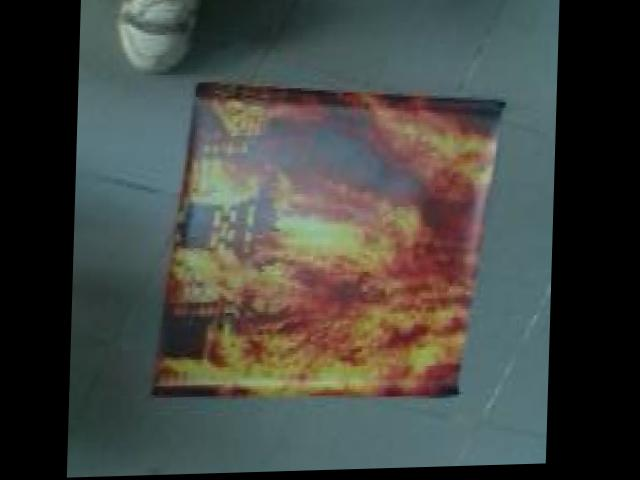fire-poster: (151, 74, 509, 414)
